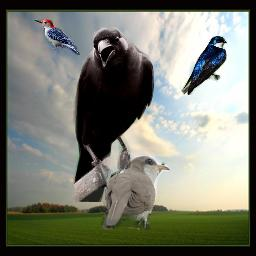Crow: (72, 27, 154, 202)
Cuckoo: (101, 155, 170, 230)
Swallow: (181, 36, 227, 95)
Woodpecker: (34, 19, 80, 55)
